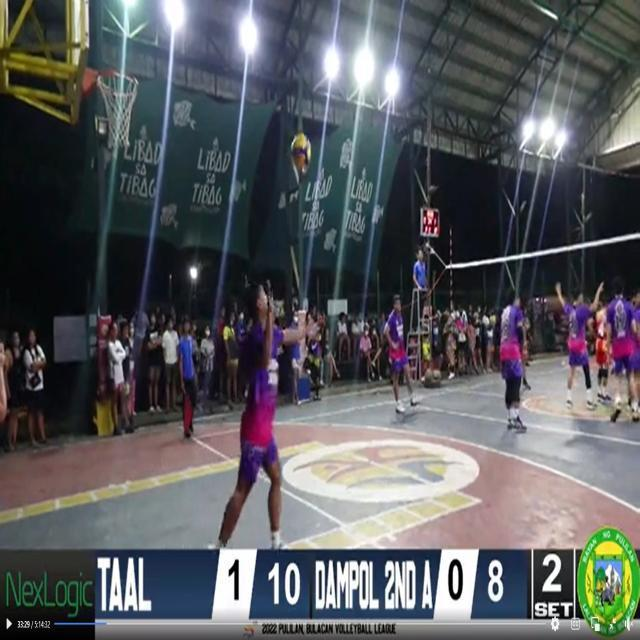volleyball: (290, 133, 311, 169)
